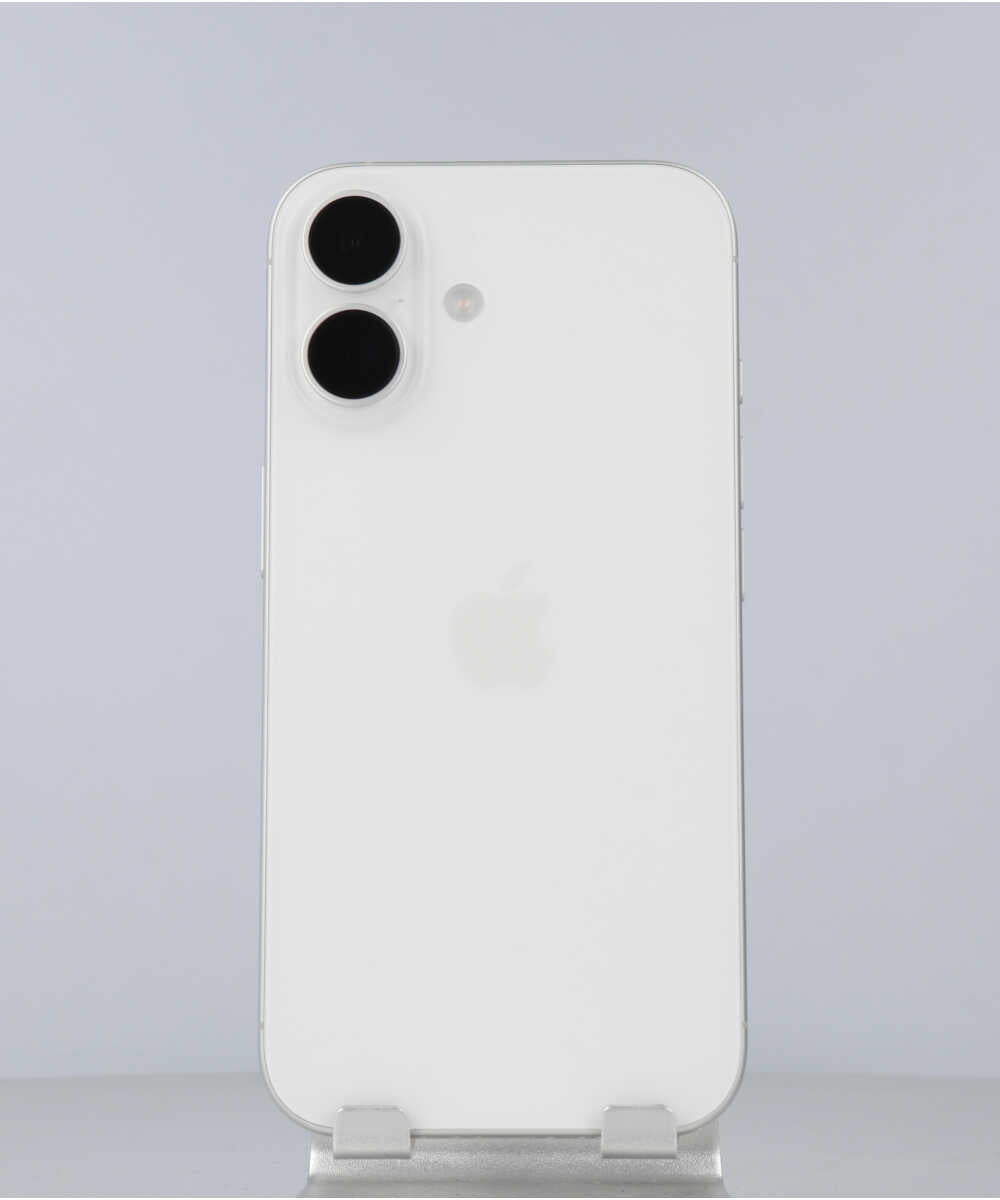iphone16_white: (237, 159, 781, 1153), (281, 185, 490, 412)
